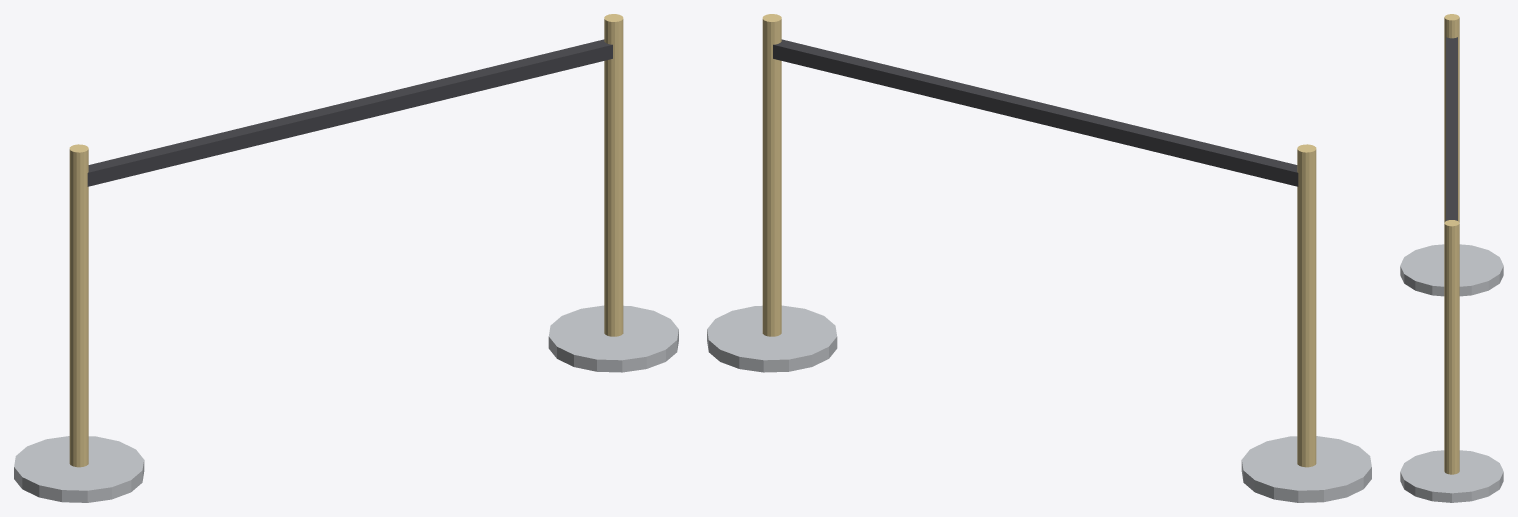
File: queue_post.glb
3 renders of one model, left to right at view 1: azimuth 30°, elevation 25°; view 2: azimuth 150°, elevation 25°; view 3: azimuth 270°, elevation 25°, orthographic. The views are drawn at different scales.
Parts seen in each view (by area): view 1: queue-barrier; view 2: queue-barrier; view 3: queue-barrier.
Part boxes in pixels (<box>): queue-barrier: <box>14,14,678,502</box>; queue-barrier: <box>707,14,1371,502</box>; queue-barrier: <box>1400,14,1503,502</box>.
Size of the model in its own units: 1.94 by 0.9351 by 0.3401.
